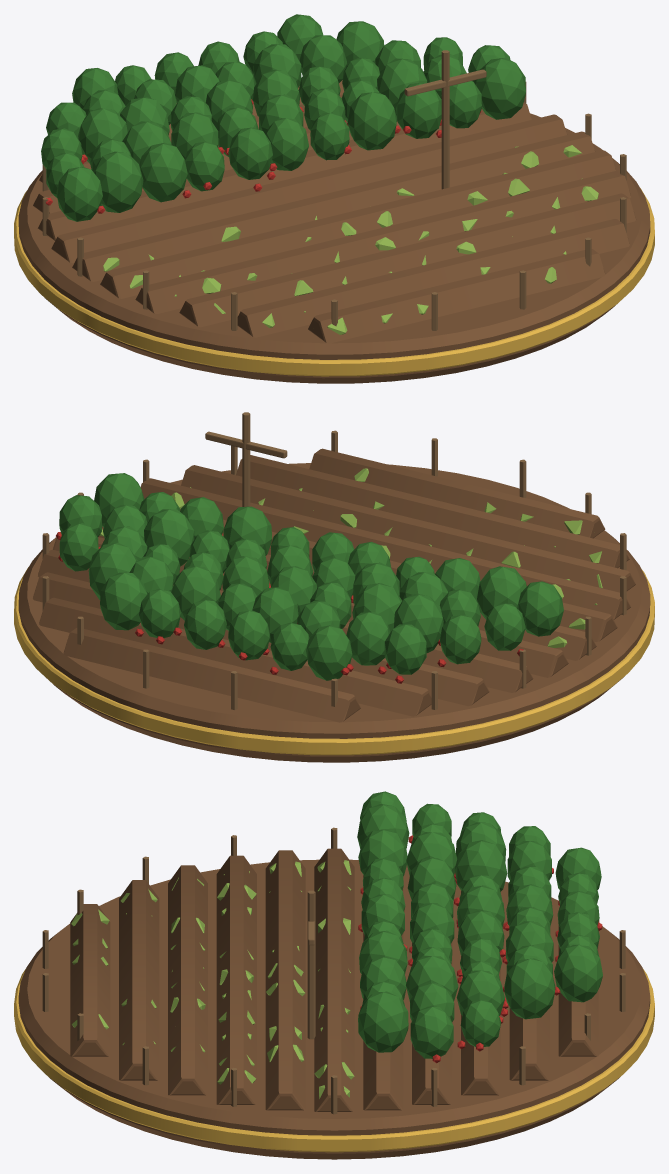
The model's file is cuenca_cultivo.src.glb.
3 views of the same model, one above another, from view 1: azimuth 30°, elevation 25°; view 2: azimuth 150°, elevation 25°; view 3: azimuth 270°, elevation 25° (orthographic).
Visible parts, largest first — view 1: geo_base, geo_detail; view 2: geo_base, geo_detail; view 3: geo_base, geo_detail.
Boxes of the visible parts, box(x1,y1,x2,y2) form: geo_base: box(14, 80, 654, 383); geo_detail: box(41, 14, 626, 334); geo_base: box(14, 448, 654, 762); geo_detail: box(42, 412, 626, 709); geo_base: box(14, 848, 654, 1159); geo_detail: box(42, 791, 625, 1114).
Bounding box in the file's own units: 0.1116 × 0.036 × 0.1116.
